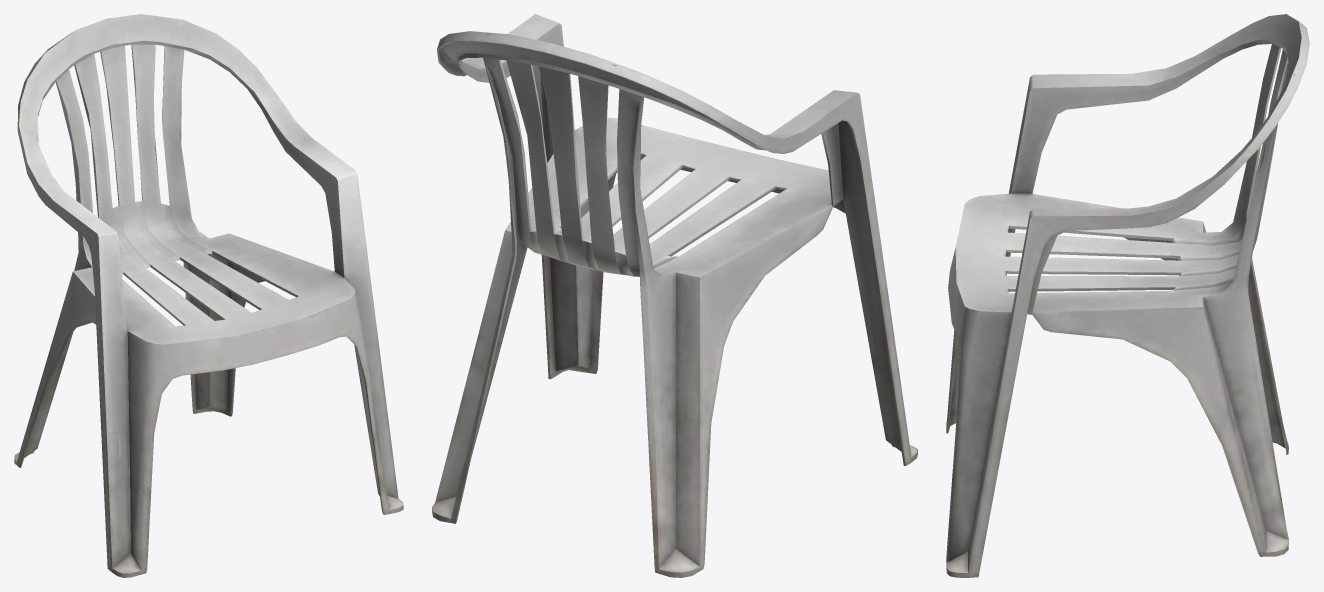
Rendered from plastic_monobloc_chair_01.glb.
3 views of the same model, side by side, from view 1: azimuth 30°, elevation 25°; view 2: azimuth 150°, elevation 25°; view 3: azimuth 270°, elevation 25° (orthographic). The views are drawn at different scales.
Visible parts, largest first — view 1: plastic_monobloc_chair_01; view 2: plastic_monobloc_chair_01; view 3: plastic_monobloc_chair_01.
Part boxes in pixels (x1=…): plastic_monobloc_chair_01: x1=14, y1=14, x2=403, y2=577; plastic_monobloc_chair_01: x1=432, y1=14, x2=917, y2=577; plastic_monobloc_chair_01: x1=946, y1=14, x2=1309, y2=577.
Bounding box in the file's own units: 0.6419 × 0.8798 × 0.6276.
1 material, 1 textured.
